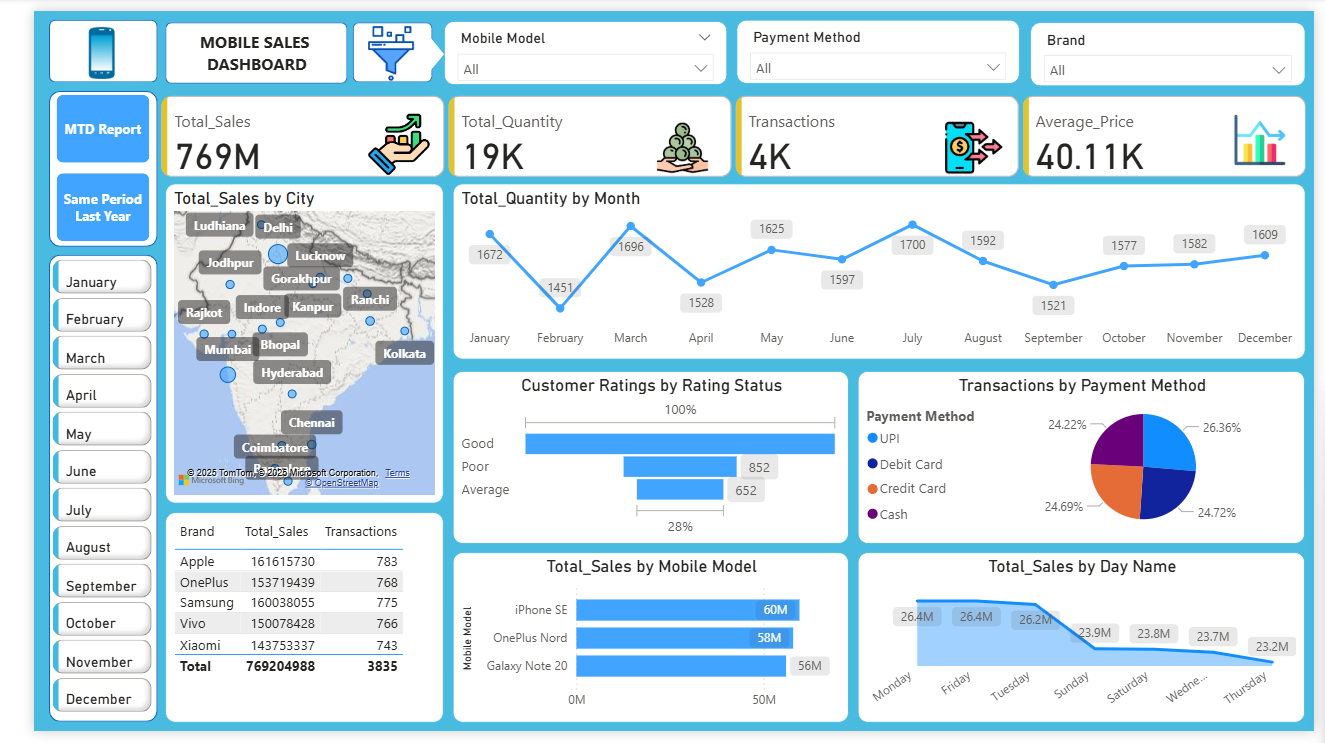

Layout of this report page (visuals, bound fields, positions):
{"tool":"powerbi","page":{"name":"Dashboard","canvas":[1280,720],"ordinal":0},"visuals":[{"type":"shape","box":[14.5,8.4,108.6,62.7],"z":0},{"type":"image","box":[20.5,8.4,95.3,63.9],"z":1000},{"type":"shape","box":[14.5,79.6,108.6,155.6],"z":2000},{"type":"shape","box":[14.5,243.7,108.6,466.9],"z":3000},{"type":"advancedSlicerVisual","fields":{"Values":["Custom_Calendar.Date.Variation.Date Hierarchy.Month"]},"box":[13.3,243.7,109.8,466.9],"z":4000},{"type":"cardVisual","fields":{"Data":["Mobile_Sales_Data.Total_Sales","Mobile_Sales_Data.Total_Quantity","Mobile_Sales_Data.Transactions","Mobile_Sales_Data.Average_Price"]},"box":[123.1,79.6,1157,91.7],"z":5000},{"type":"slicer","fields":{"Values":["Mobile_Sales_Data.Mobile Model"]},"box":[410.2,9.7,283.5,63.9],"z":6000},{"type":"slicer","fields":{"Values":["Mobile_Sales_Data.Payment Method"]},"box":[702.1,8.4,283.5,63.9],"z":7000},{"type":"slicer","fields":{"Values":["Mobile_Sales_Data.Brand"]},"box":[996.5,10.9,275.1,63.9],"z":8000},{"type":"shape","box":[318.5,10.9,79.6,60.3],"z":9000},{"type":"image","box":[313.7,0,89.3,79.6],"z":10000},{"type":"shape","box":[382.4,26.5,27.7,33.8],"z":11000},{"type":"shape","box":[131.5,10.9,182.2,61.5],"z":12000},{"type":"textbox","box":[147.2,14.5,150.8,55.5],"z":13000},{"type":"map","fields":{"Category":["Mobile_Sales_Data.City"],"Size":["Mobile_Sales_Data.Total_Sales"]},"box":[131.2,172.5,278.8,320],"z":14000},{"type":"lineChart","fields":{"Category":["Custom_Calendar.Date.Variation.Date Hierarchy.Month"],"Y":["Mobile_Sales_Data.Total_Quantity"]},"box":[418.8,172.5,852.5,176.2],"z":15000},{"type":"funnel","title":" Customer Ratings by Rating Status","fields":{"Y":["CountNonNull(Mobile_Sales_Data.Customer Ratings)"],"Category":["Mobile_Sales_Data.Rating Status"]},"box":[418.8,360,396.2,172.5],"z":16000},{"type":"pieChart","fields":{"Y":["Mobile_Sales_Data.Transactions"],"Category":["Mobile_Sales_Data.Payment Method"]},"box":[823.8,360,447.5,172.5],"z":17000},{"type":"clusteredBarChart","fields":{"Y":["Mobile_Sales_Data.Total_Sales"],"Category":["Mobile_Sales_Data.Mobile Model"]},"box":[418.8,541.2,396.2,170],"z":18000},{"type":"areaChart","fields":{"Y":["Mobile_Sales_Data.Total_Sales"],"Category":["Custom_Calendar.Day Name"]},"box":[823.8,541.2,447.5,170],"z":19000},{"type":"tableEx","fields":{"Values":["Mobile_Sales_Data.Brand","Mobile_Sales_Data.Total_Sales","Mobile_Sales_Data.Transactions"]},"box":[131.2,501.2,278.8,210],"z":20000},{"type":"pageNavigator","box":[22.5,83.8,93.8,147.5],"z":21000}]}

Visuals, with their boxes in screenshot pixels (x1, y1, x2, y2), scaled from the page's 1280x720 canvas onto the 1325x743 screenshot:
shape: <bbox>15, 9, 127, 73</bbox>
image: <bbox>21, 9, 120, 75</bbox>
shape: <bbox>15, 82, 127, 243</bbox>
shape: <bbox>15, 251, 127, 733</bbox>
advancedSlicerVisual - Custom_Calendar.Date.Variation.Date Hierarchy.Month: <bbox>14, 251, 127, 733</bbox>
cardVisual - Mobile_Sales_Data.Total_Sales x Mobile_Sales_Data.Total_Quantity: <bbox>127, 82, 1324, 177</bbox>
slicer - Mobile_Sales_Data.Mobile Model: <bbox>425, 10, 718, 76</bbox>
slicer - Mobile_Sales_Data.Payment Method: <bbox>727, 9, 1020, 75</bbox>
slicer - Mobile_Sales_Data.Brand: <bbox>1032, 11, 1316, 77</bbox>
shape: <bbox>330, 11, 412, 73</bbox>
image: <bbox>325, 0, 417, 82</bbox>
shape: <bbox>396, 27, 425, 62</bbox>
shape: <bbox>136, 11, 325, 75</bbox>
textbox: <bbox>152, 15, 308, 72</bbox>
map - Mobile_Sales_Data.City x Mobile_Sales_Data.Total_Sales: <bbox>136, 178, 424, 508</bbox>
lineChart - Custom_Calendar.Date.Variation.Date Hierarchy.Month x Mobile_Sales_Data.Total_Quantity: <bbox>434, 178, 1316, 360</bbox>
" Customer Ratings by Rating Status" funnel: <bbox>434, 372, 844, 550</bbox>
pieChart - Mobile_Sales_Data.Transactions x Mobile_Sales_Data.Payment Method: <bbox>853, 372, 1316, 550</bbox>
clusteredBarChart - Mobile_Sales_Data.Total_Sales x Mobile_Sales_Data.Mobile Model: <bbox>434, 558, 844, 734</bbox>
areaChart - Mobile_Sales_Data.Total_Sales x Custom_Calendar.Day Name: <bbox>853, 558, 1316, 734</bbox>
tableEx - Mobile_Sales_Data.Brand x Mobile_Sales_Data.Total_Sales: <bbox>136, 517, 424, 734</bbox>
pageNavigator: <bbox>23, 86, 120, 239</bbox>
